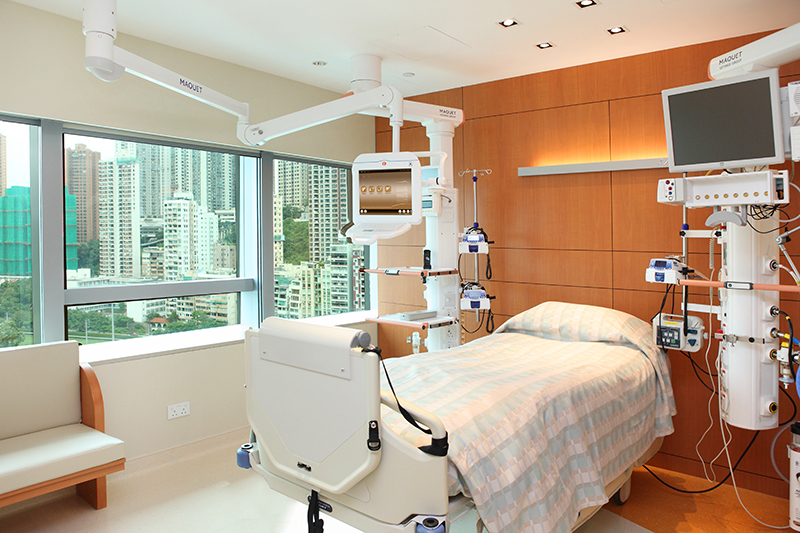bedside_monitor: (662, 67, 786, 175), (352, 152, 422, 225)
foot_board: (243, 315, 383, 497)
hospital_bed: (235, 301, 676, 533)
iv_pole: (457, 168, 492, 322)
sofa: (1, 338, 126, 510)
